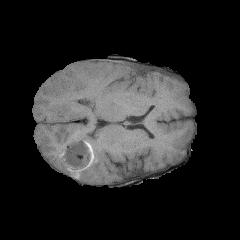glioma: (45, 62, 165, 177)
